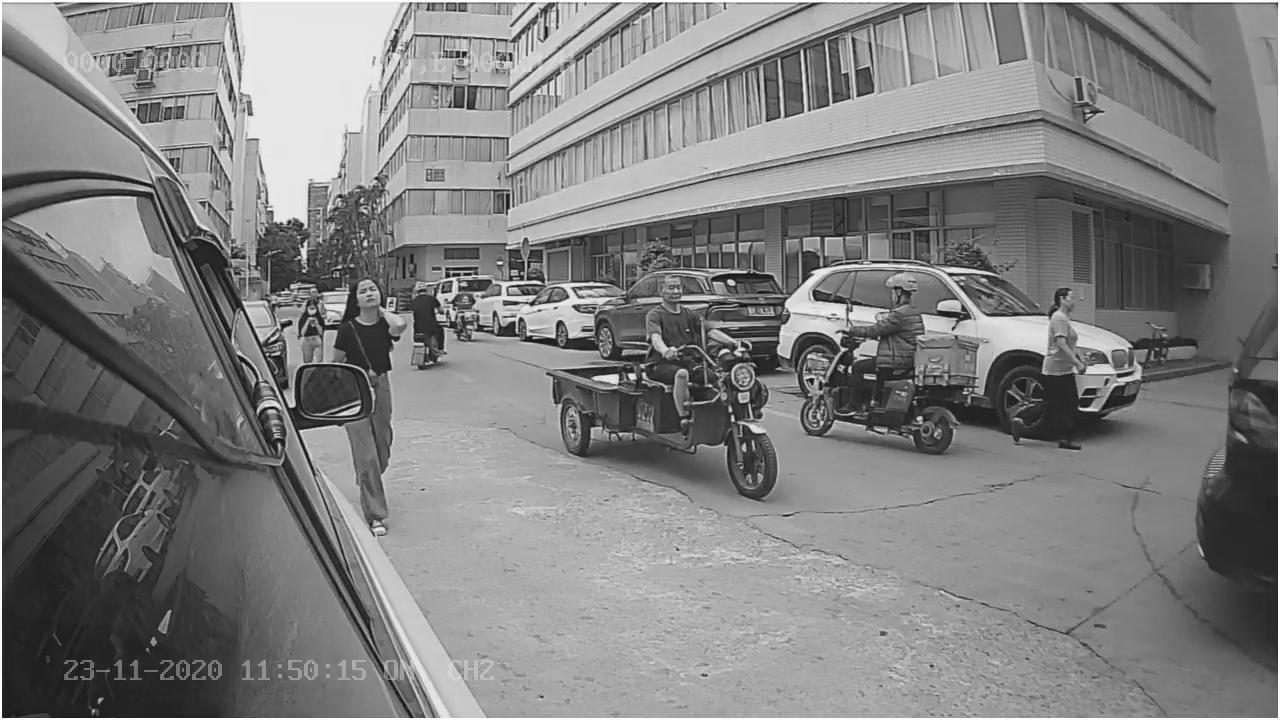person: (1007, 270, 1086, 453), (324, 270, 421, 359)
